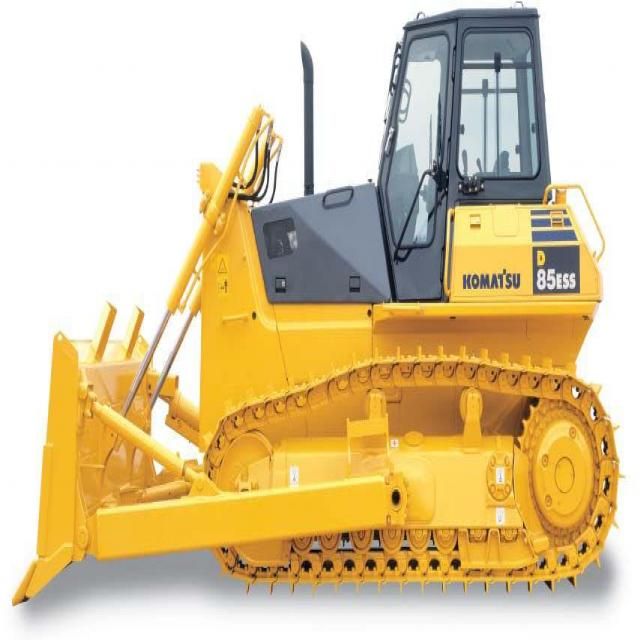Bulldozer: (13, 14, 620, 619)
